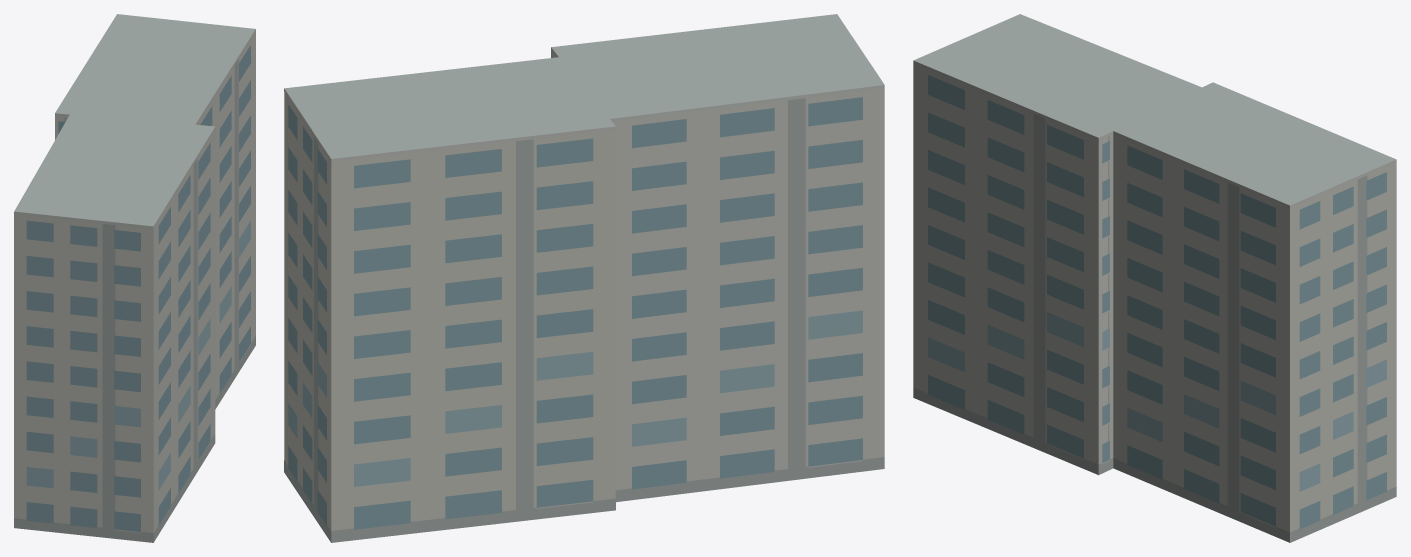
Rendered from survey-upis-32907818.glb.
The picture shows the model from 3 angles, left to right: view 1: azimuth 30°, elevation 25°; view 2: azimuth 150°, elevation 25°; view 3: azimuth 270°, elevation 25°; orthographic projection. The views are drawn at different scales.
Parts seen in each view (by area): view 1: survey-upis-32907818.tmp; view 2: survey-upis-32907818.tmp; view 3: survey-upis-32907818.tmp.
Boxes of the visible parts, bbox=[...] form: survey-upis-32907818.tmp: bbox=[14, 14, 255, 542]; survey-upis-32907818.tmp: bbox=[284, 14, 884, 542]; survey-upis-32907818.tmp: bbox=[913, 14, 1396, 542].
Bounding box in the file's own units: 33.45 × 27.45 × 35.65.
